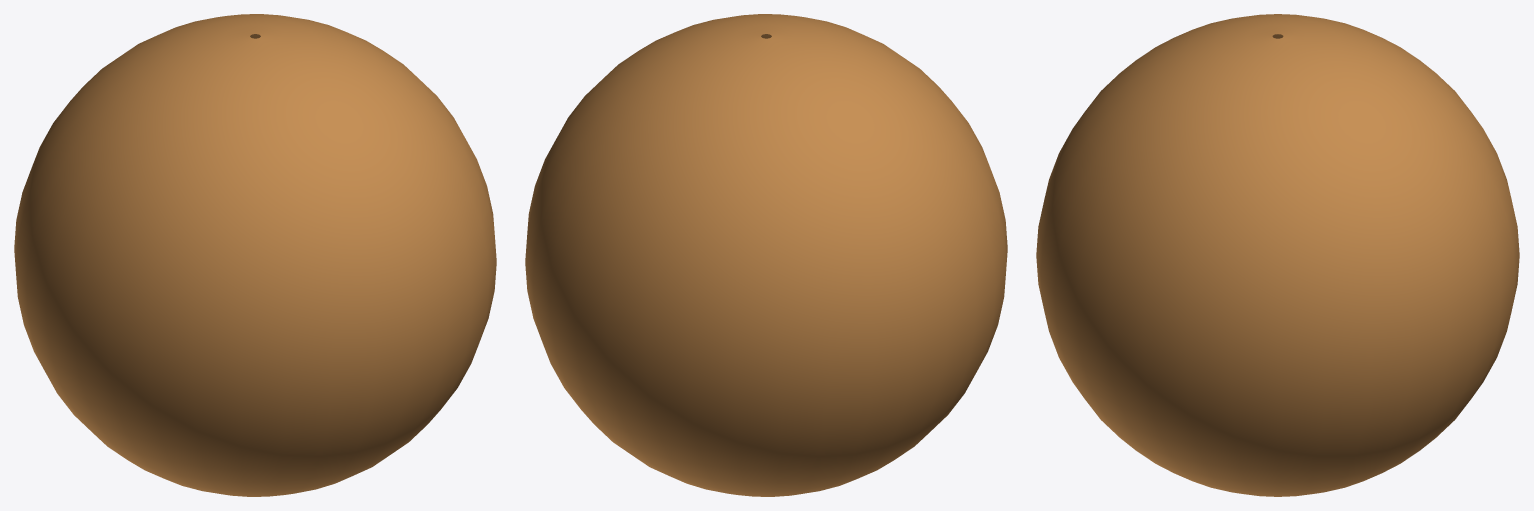
File: sku_v23_citrus.glb
3 renders of one model, left to right at view 1: azimuth 30°, elevation 25°; view 2: azimuth 150°, elevation 25°; view 3: azimuth 270°, elevation 25°, orthographic.
Parts seen in each view (by area): view 1: sku_v23_citrus_Laminated_pastry; view 2: sku_v23_citrus_Laminated_pastry; view 3: sku_v23_citrus_Laminated_pastry.
Part boxes in pixels (x1,y1,x2,y2): sku_v23_citrus_Laminated_pastry: [14, 14, 496, 496]; sku_v23_citrus_Laminated_pastry: [525, 14, 1007, 496]; sku_v23_citrus_Laminated_pastry: [1036, 14, 1519, 496].
Size of the model in its own units: 0.09 by 0.09 by 0.09.
